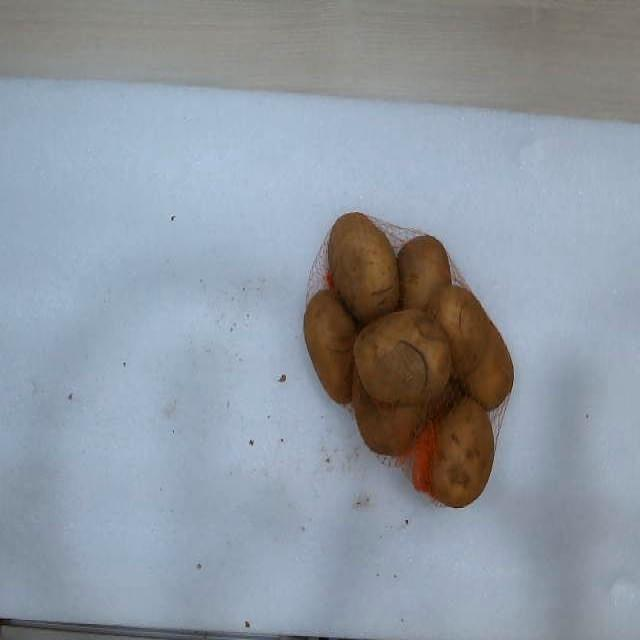potato: (354, 313, 452, 405), (329, 213, 398, 323), (430, 397, 494, 507), (352, 370, 425, 456), (430, 285, 491, 379), (305, 292, 356, 403), (464, 325, 514, 409), (398, 235, 451, 309)
